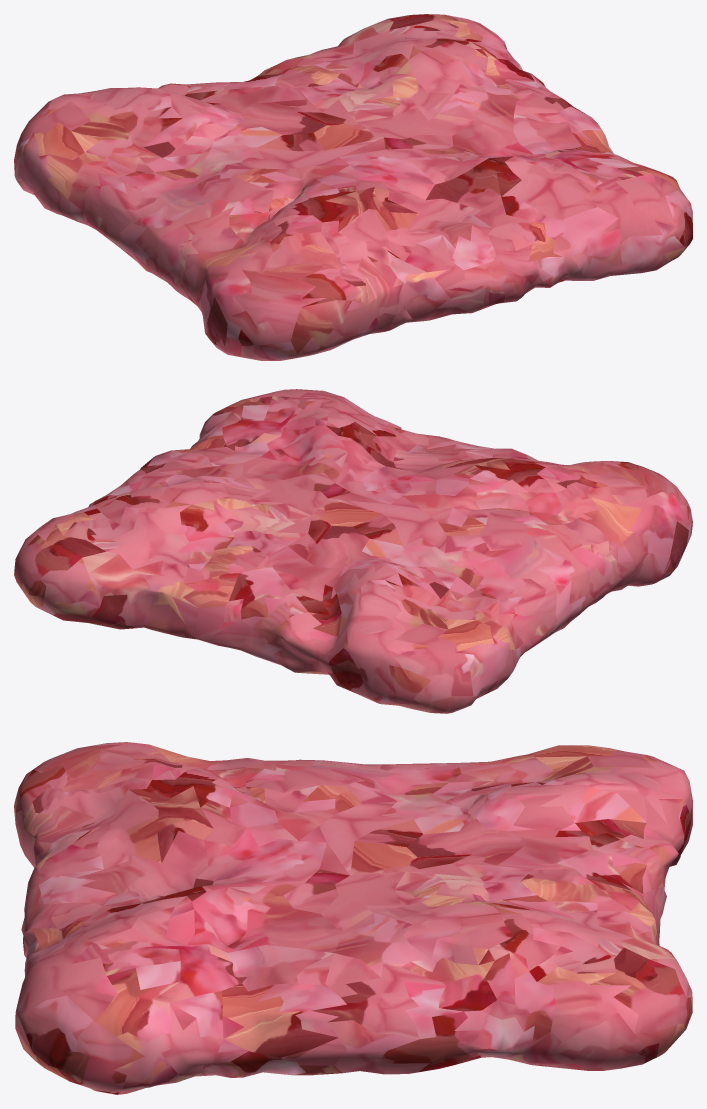
The model's file is StageStartGate.fbx.
3 renders of one model, top to bottom at view 1: azimuth 30°, elevation 25°; view 2: azimuth 150°, elevation 25°; view 3: azimuth 270°, elevation 25°, orthographic. The views are drawn at different scales.
Visible parts, largest first — view 1: Mesh_0; view 2: Mesh_0; view 3: Mesh_0.
Part boxes in pixels (left/top/right/bottom): Mesh_0: left=14, top=14, right=692, bottom=360; Mesh_0: left=14, top=389, right=692, bottom=713; Mesh_0: left=14, top=742, right=692, bottom=1094.
Size of the model in its own units: 2 by 0.431 by 2.
